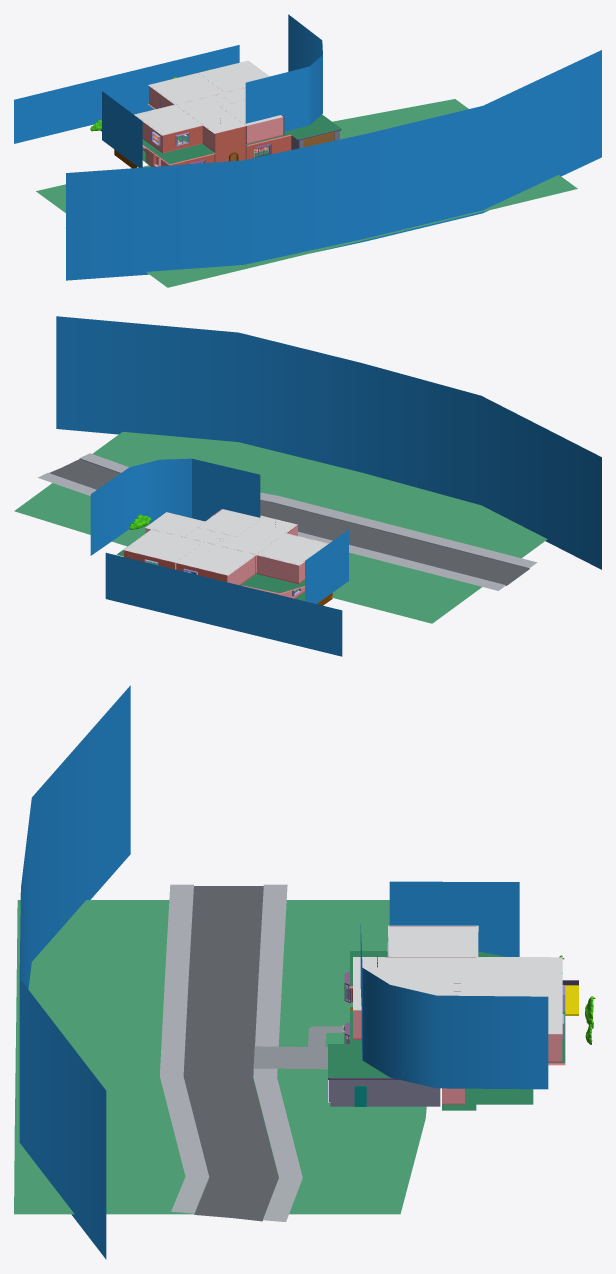
File: Interior.fbx
3 views of the same model, one above another, from view 1: azimuth 30°, elevation 25°; view 2: azimuth 150°, elevation 25°; view 3: azimuth 270°, elevation 25° (orthographic). The views are drawn at different scales.
Visible parts, largest first — view 1: Interior; view 2: Interior; view 3: Interior.
Part boxes in pixels (<box>): Interior: <box>14,14,601,287</box>; Interior: <box>14,316,601,656</box>; Interior: <box>14,685,595,1259</box>.
Bounding box in the file's own units: 12108 × 2355 × 7419.
